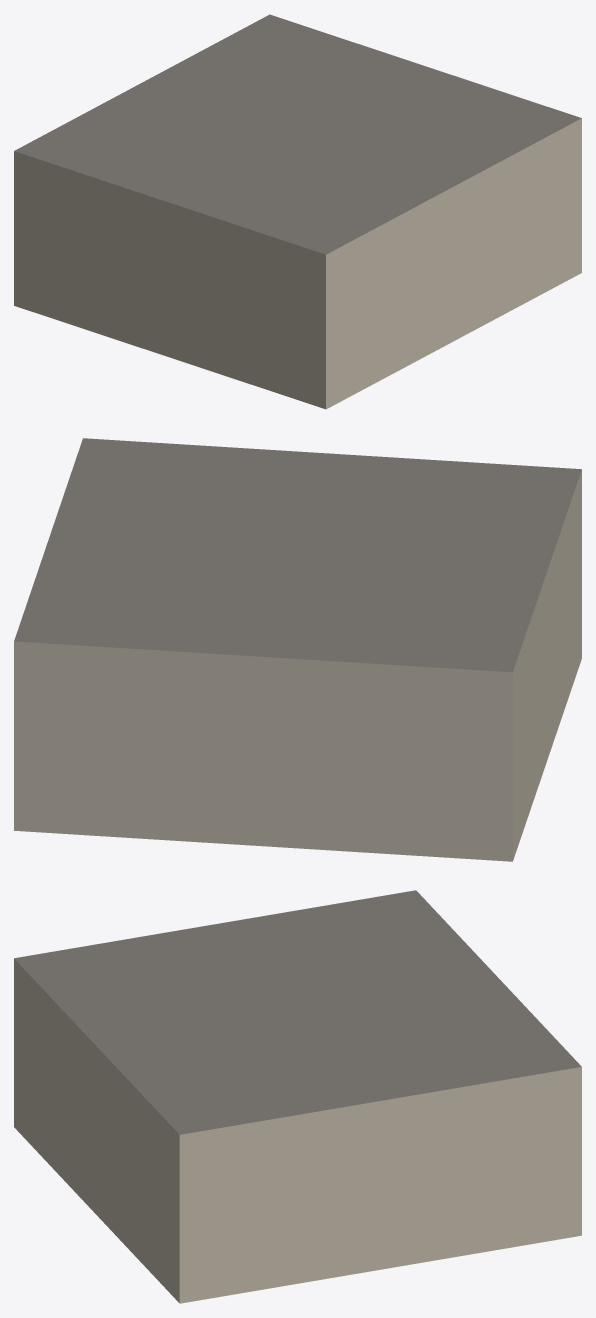
3 renders of one model, top to bottom at view 1: azimuth 30°, elevation 25°; view 2: azimuth 150°, elevation 25°; view 3: azimuth 270°, elevation 25°, orthographic. The views are drawn at different scales.
Parts seen in each view (by area): view 1: HP-w1287059336; view 2: HP-w1287059336; view 3: HP-w1287059336.
Boxes of the visible parts, x1,y1,x2,y2 form: HP-w1287059336: (14, 14, 581, 409); HP-w1287059336: (14, 438, 581, 861); HP-w1287059336: (14, 890, 581, 1303).
Bounding box in the file's own units: 55.95 × 18 × 54.88.
